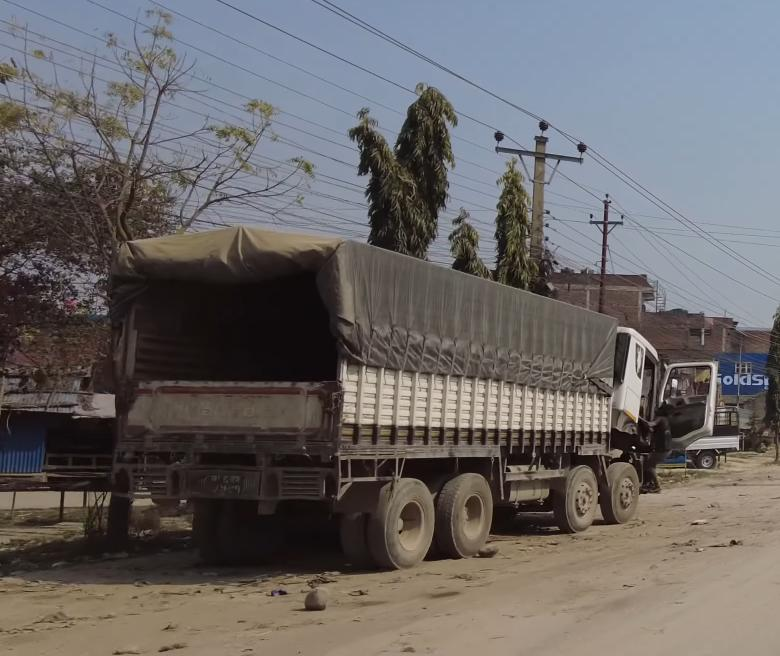truck: (99, 224, 721, 570)
